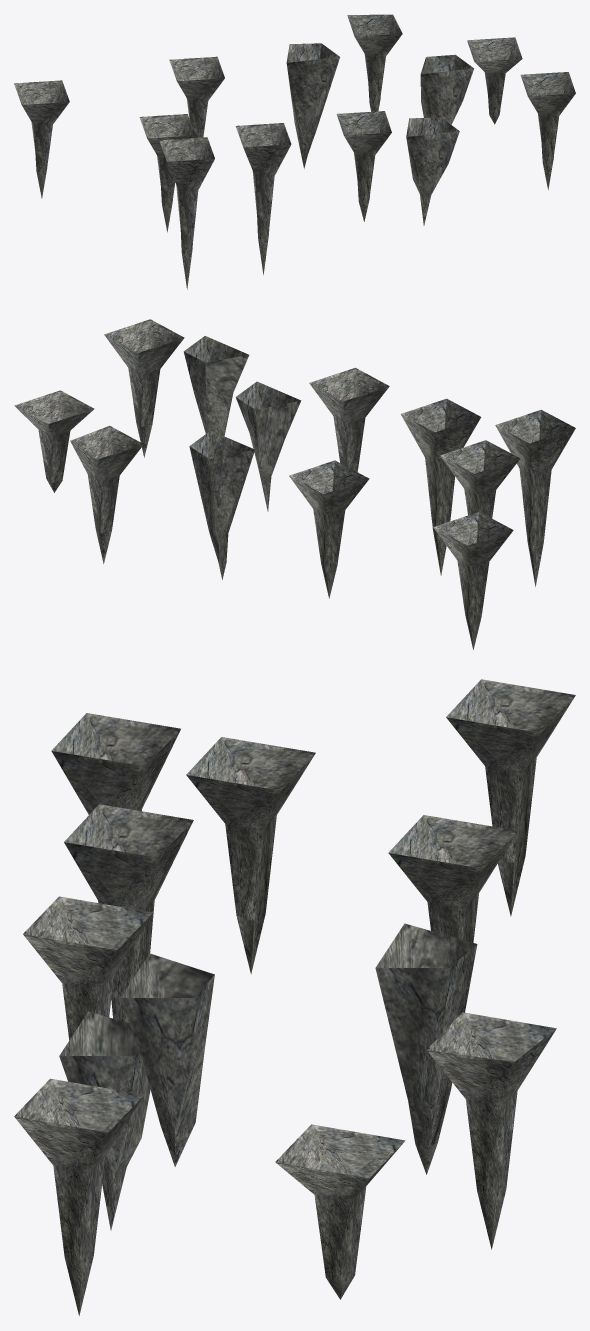
3 renders of one model, top to bottom at view 1: azimuth 30°, elevation 25°; view 2: azimuth 150°, elevation 25°; view 3: azimuth 270°, elevation 25°, orthographic. The views are drawn at different scales.
Visible parts, largest first — view 1: Object05; view 2: Object05; view 3: Object05.
Boxes of the visible parts, <box> form: Object05: <box>14,14,575,289</box>; Object05: <box>14,319,575,649</box>; Object05: <box>14,679,575,1315</box>.
Bounding box in the file's own units: 886 × 288 × 468.
